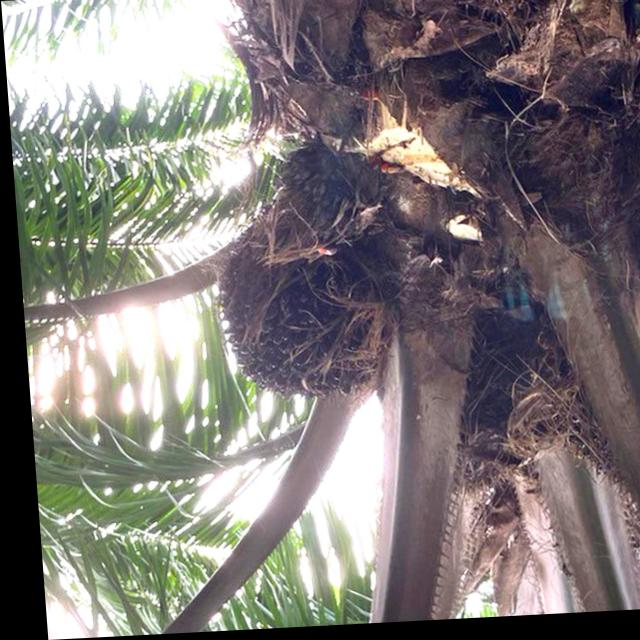almost: (203, 244, 400, 419)
